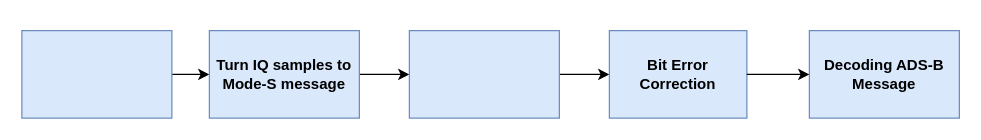
This 981x140 diagram has some shape labels left out. The centre of each missing label's shape, as x and y in pixels:
"Cyclic Redundancy Check" goes at point (483, 73).
"Raw IQ Data" goes at point (96, 73).
